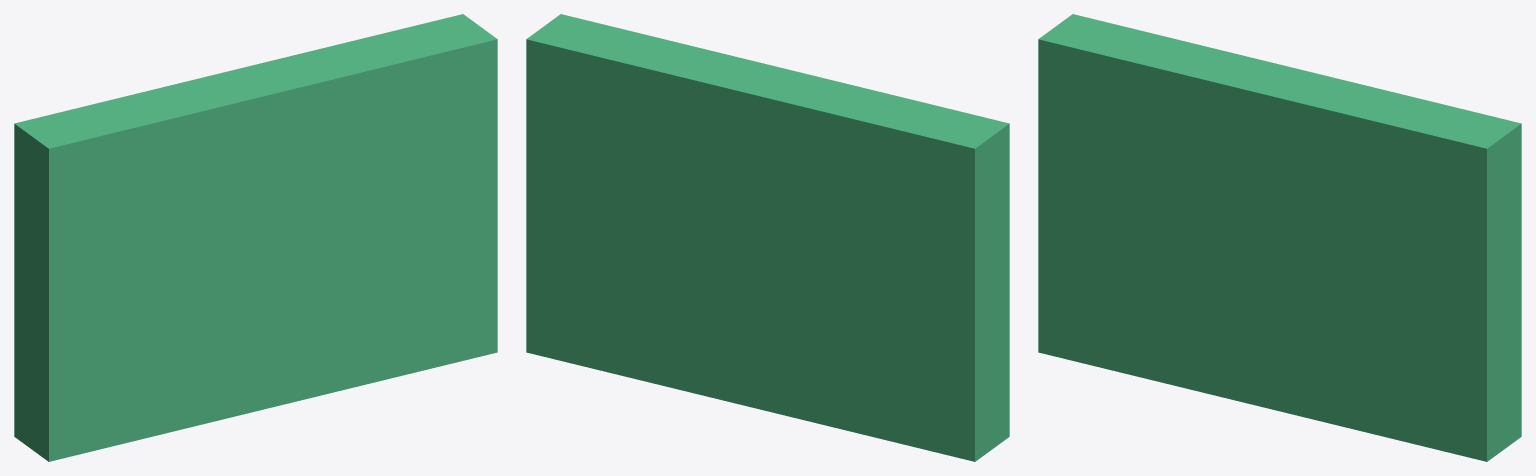
3 views of the same model, side by side, from view 1: azimuth 30°, elevation 25°; view 2: azimuth 150°, elevation 25°; view 3: azimuth 330°, elevation 25° (orthographic).
Visible parts, largest first — view 1: Volume_002_G00-U01_GREEN, Volume_003_G00-U02_GREEN; view 2: Volume_002_G00-U01_GREEN, Volume_003_G00-U02_GREEN; view 3: Volume_003_G00-U02_GREEN, Volume_002_G00-U01_GREEN.
Boxes of the visible parts, x1,y1,x2,y2 form: Volume_002_G00-U01_GREEN: (14, 69, 273, 461); Volume_003_G00-U02_GREEN: (239, 14, 497, 406); Volume_002_G00-U01_GREEN: (750, 69, 1009, 461); Volume_003_G00-U02_GREEN: (526, 14, 784, 406); Volume_003_G00-U02_GREEN: (1262, 69, 1521, 461); Volume_002_G00-U01_GREEN: (1038, 14, 1296, 406).
Bounding box in the file's own units: 24 × 16 × 3.2.
